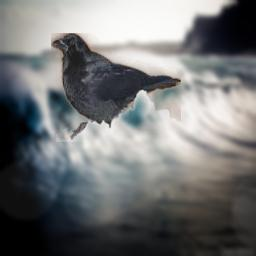Crow: (51, 33, 181, 142)
